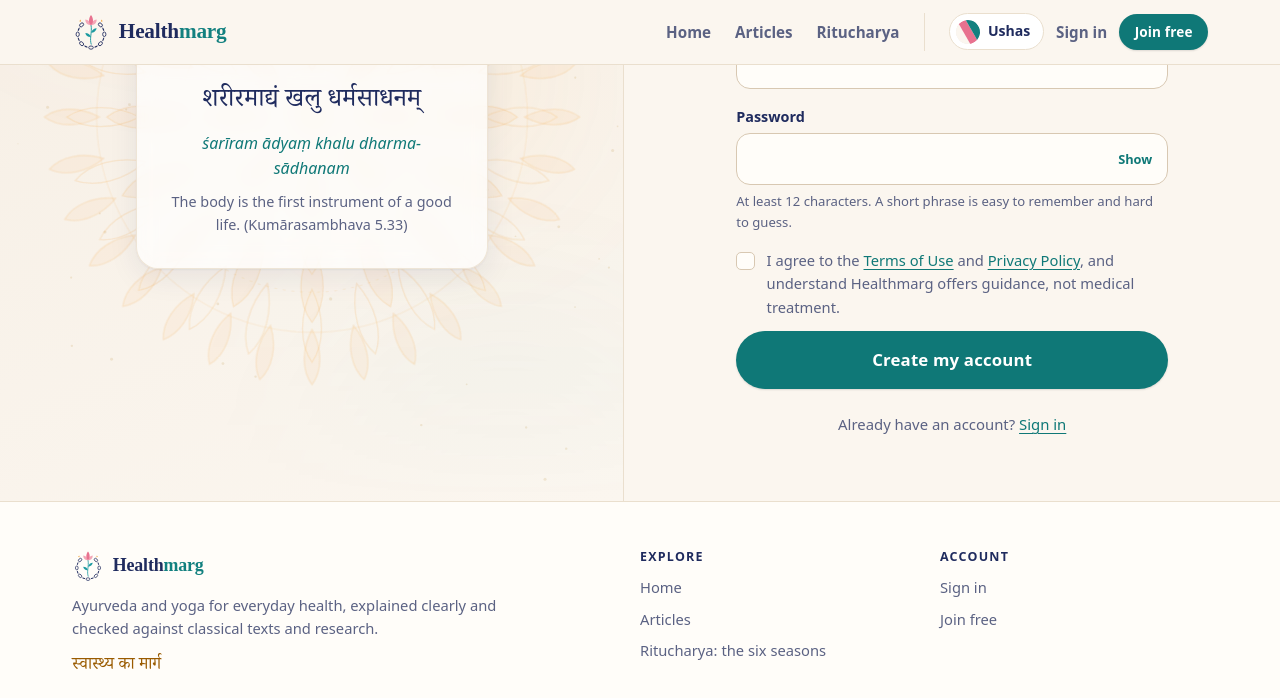
Test: sign up › checks the form before sending anything
The width and height of the screenshot is (1280, 698).
(page scrolled)
What coordinates should you click on to do the following:
click the button "Create my account"
I would click on:
 (952, 360)
Its box is [736, 331, 1168, 389].
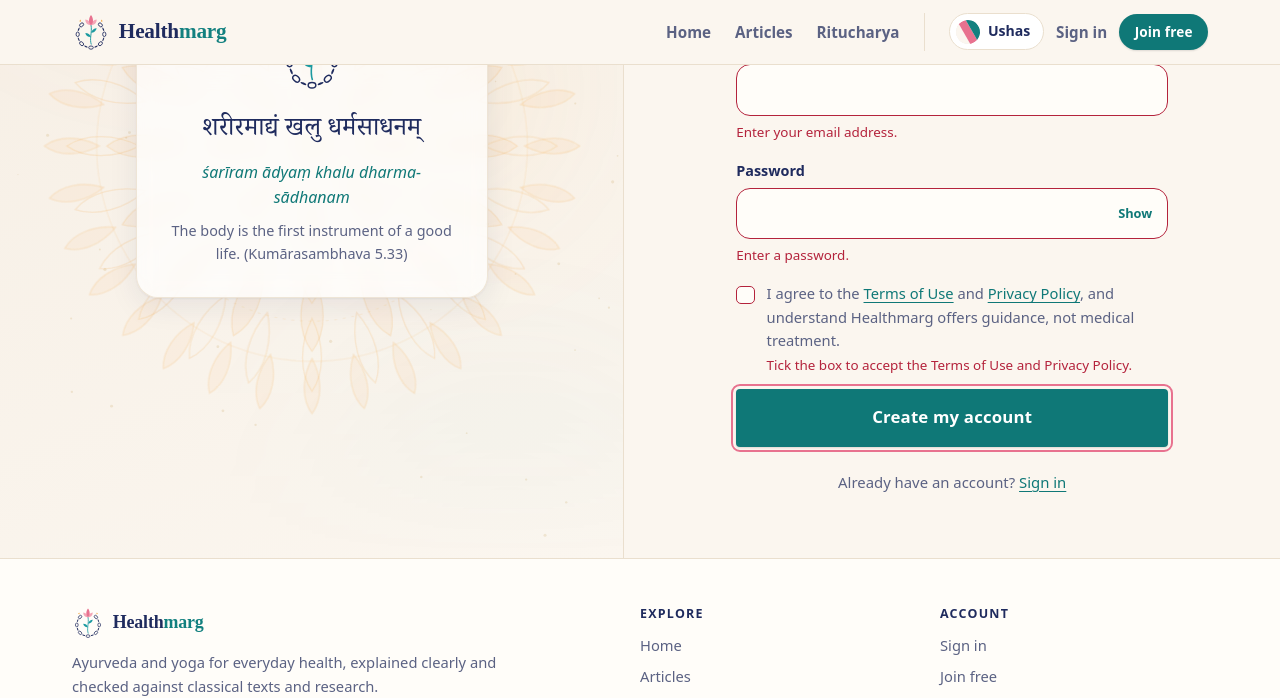
Check: the text "Enter your email address." is shown, box [736, 122, 897, 140]
Check: the text "Enter a password." is shown, box [736, 246, 849, 264]
Check: the text "Tick the box to accept the Terms of Use and Privacy Policy." is shown, box [767, 355, 1168, 377]
